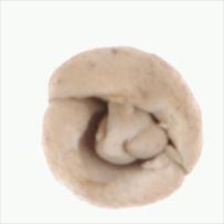L3: (73, 97, 177, 167)
L4: (42, 47, 203, 208)
